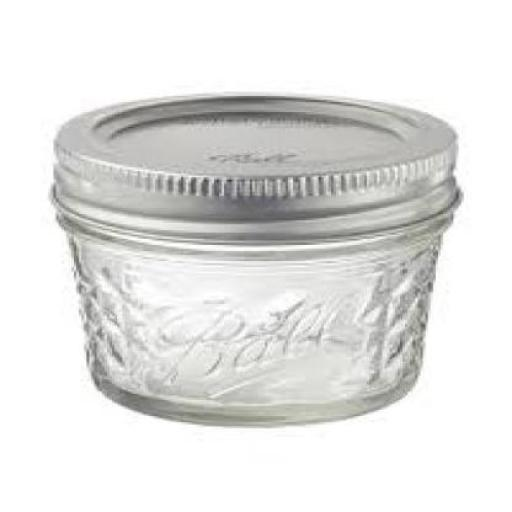glass: (56, 214, 439, 422)
metal: (51, 89, 459, 241)
